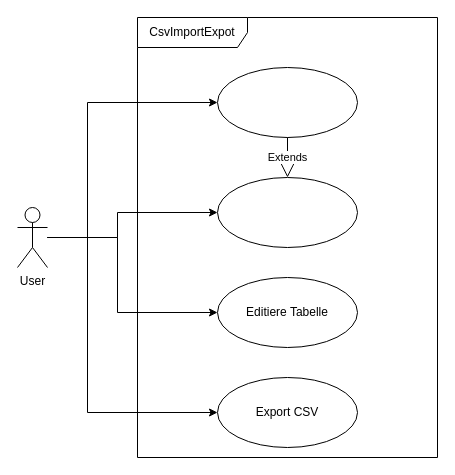
The diagram is 455 pixels wide and 475 high, and some of its shapes have lost their labels. The centre of each missing label's shape, as x and y in pixels:
"Import CSV" belongs at (287,102).
"Zeige Tabelle" belongs at (287,212).
